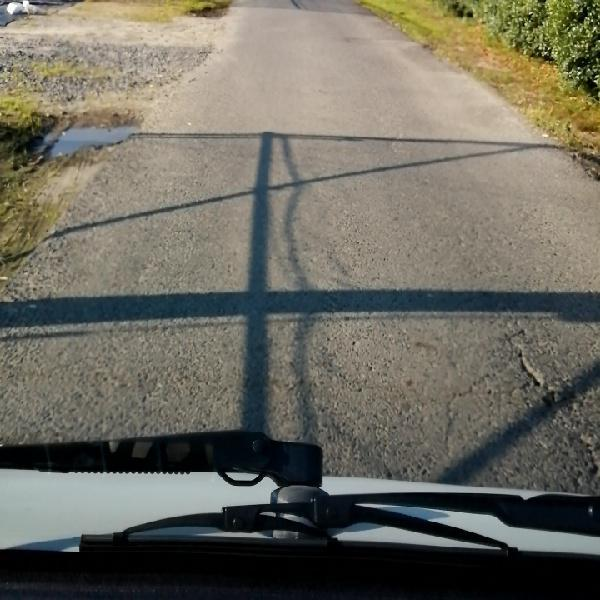D10: (506, 325, 592, 469), (409, 370, 496, 451)
